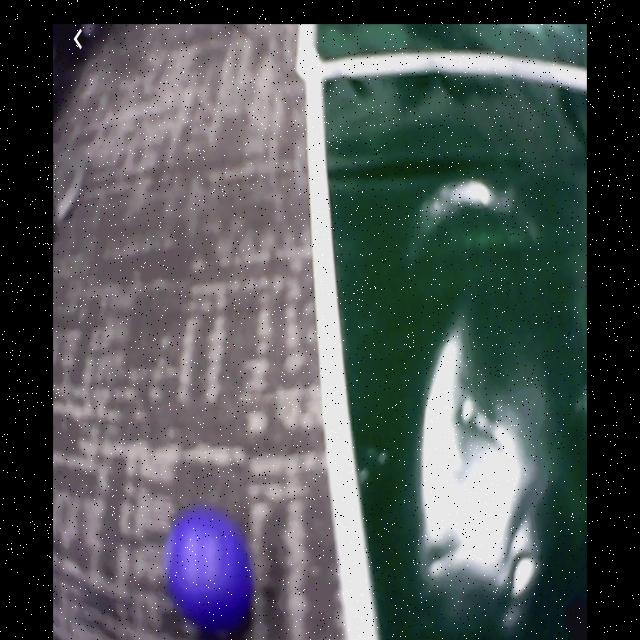ball: (168, 510, 253, 635)
